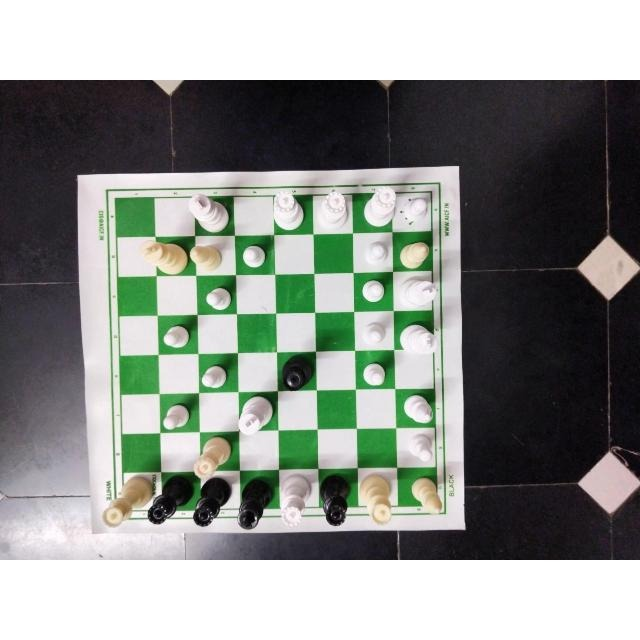black-king: (235, 477, 272, 528)
black-queen: (148, 475, 192, 525), (194, 477, 230, 527), (319, 475, 350, 527), (281, 355, 312, 390)
white-bishop: (411, 476, 443, 514), (401, 393, 434, 425), (189, 244, 222, 272), (399, 240, 431, 268)
white-king: (136, 240, 187, 275), (188, 193, 230, 233), (238, 395, 276, 435), (398, 322, 439, 356), (397, 276, 437, 309)
white-pawn: (406, 434, 434, 464), (163, 402, 191, 430), (200, 363, 229, 388), (361, 360, 388, 386), (360, 321, 388, 346), (242, 244, 268, 270), (359, 277, 385, 303), (361, 240, 388, 265), (402, 197, 428, 222), (205, 286, 231, 311), (162, 324, 190, 347)
white-queen: (100, 477, 151, 527), (358, 473, 393, 525), (192, 436, 233, 480), (280, 475, 312, 529), (363, 186, 397, 227), (272, 189, 305, 230), (316, 192, 348, 232)
